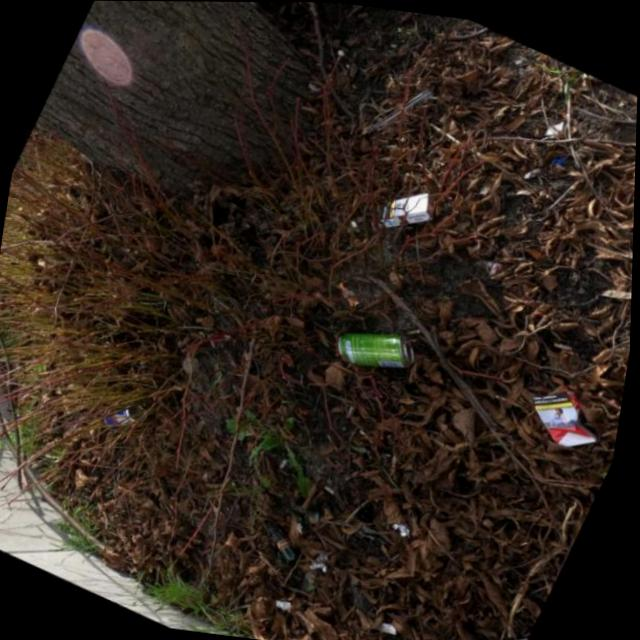Can-Metal: (333, 323, 420, 372), (102, 398, 148, 433)
Paper: (526, 377, 609, 450), (378, 185, 435, 232)
